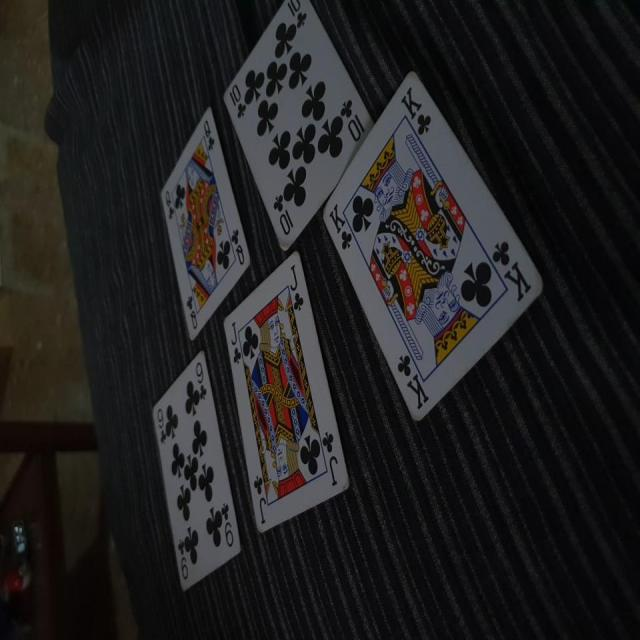10 Trefoils: (220, 1, 374, 257)
9 Trefoils: (150, 349, 243, 592)
J Trefoils: (222, 250, 351, 533)
K Trefoils: (322, 67, 545, 424)
Q Trefoils: (160, 108, 251, 338)
